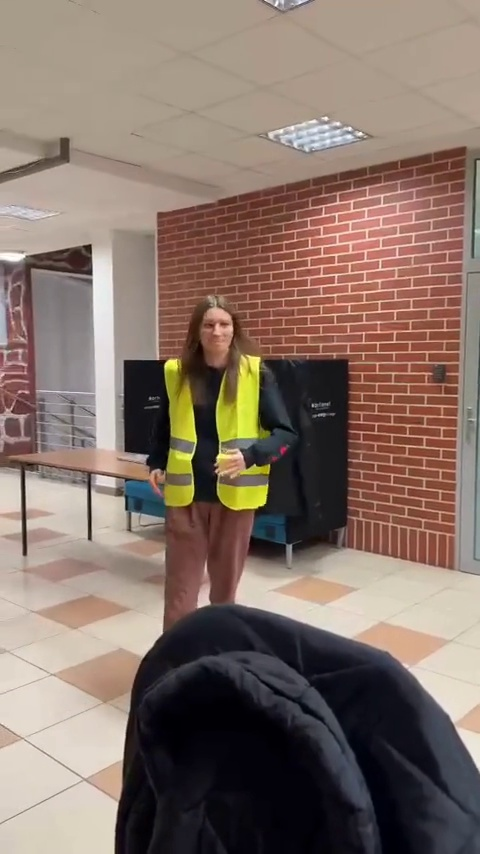vest: (149, 295, 302, 610)
